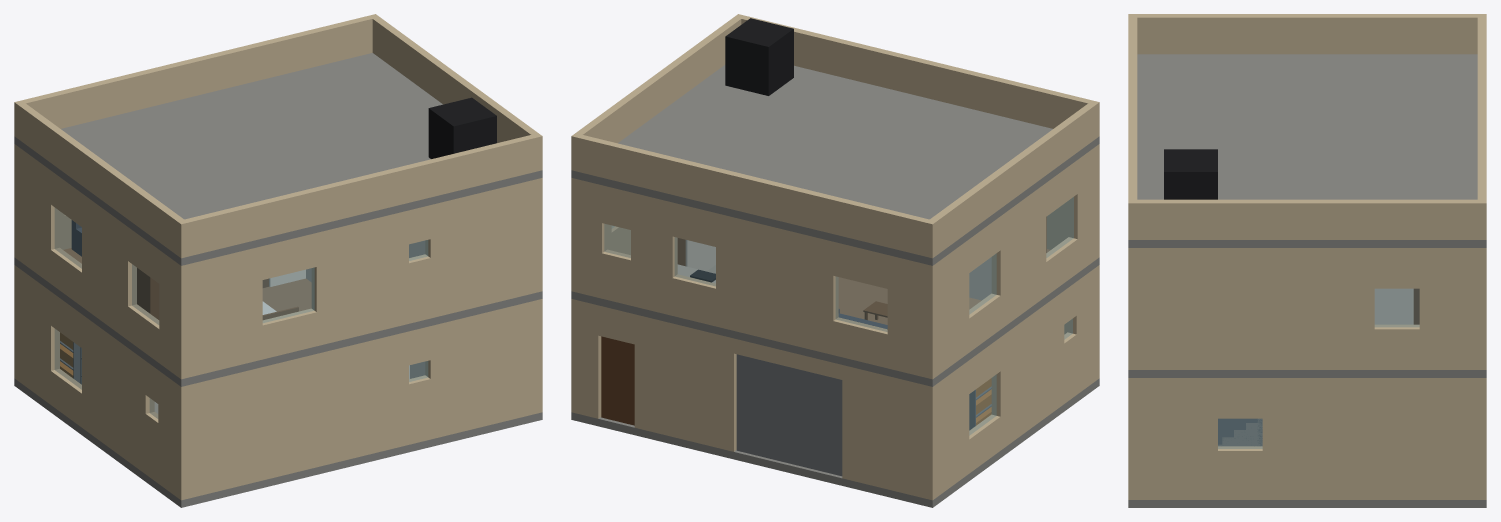
File: corner-store.glb
3 renders of one model, left to right at view 1: azimuth 30°, elevation 25°; view 2: azimuth 150°, elevation 25°; view 3: azimuth 270°, elevation 25°, orthographic. The views are drawn at different scales.
Parts seen in each view (by area): view 1: roof_slab, wall_ext_south_f0_seg0, roof_parapet_s, roof_parapet_n, wall_ext_south_f0_seg4, wall_ext_south_f1_seg8, wall_ext_south_f1_seg4, wall_ext_south_f1_seg0, wall_ext_west_f0_seg4, roof_parapet_w, wall_ext_west_f1_seg4, roof_parapet_e (+28 smaller); view 2: roof_slab, roof_parapet_n, wall_ext_north_f1_seg4, wall_ext_north_f0_seg3, roof_parapet_s, wall_ext_north_f0_seg0, door_f0_shopfront_leaf, wall_ext_west_f0_seg4, roof_parapet_w, wall_ext_north_f1_seg0, wall_ext_west_f1_seg4, roof_parapet_e (+37 smaller); view 3: roof_slab, wall_ext_east_f1_seg4, wall_ext_east_f0_seg0, roof_parapet_w, roof_parapet_e, wall_ext_east_f0_seg4, wall_ext_east_f1_seg0, slab_f0, slab_f1, roof_water_tank_tank, wall_ext_east_f0_sill1, roof_parapet_n (+12 smaller).
Boxes of the visible parts, x1,y1,x2,y2 form: roof_slab: (14, 53, 542, 265); wall_ext_south_f0_seg0: (176, 331, 408, 500); roof_parapet_s: (177, 133, 542, 258); roof_parapet_n: (14, 14, 379, 138); wall_ext_south_f0_seg4: (425, 299, 542, 439); wall_ext_south_f1_seg8: (425, 178, 542, 318); wall_ext_south_f1_seg4: (311, 210, 408, 346); wall_ext_south_f1_seg0: (176, 246, 262, 379); wall_ext_west_f0_seg4: (82, 314, 154, 473); roof_parapet_w: (18, 103, 183, 254); wall_ext_west_f1_seg4: (82, 193, 136, 339); roof_parapet_e: (372, 17, 537, 142); roof_slab: (571, 65, 1099, 265); roof_parapet_n: (571, 133, 936, 258); wall_ext_north_f1_seg4: (716, 213, 838, 354); wall_ext_north_f0_seg3: (634, 314, 736, 451); roof_parapet_s: (734, 14, 1099, 138); wall_ext_north_f0_seg0: (842, 365, 937, 500); door_f0_shopfront_leaf: (736, 354, 842, 476); wall_ext_west_f0_seg4: (991, 291, 1064, 450); roof_parapet_w: (930, 103, 1095, 254); wall_ext_north_f1_seg0: (887, 255, 937, 379); wall_ext_west_f1_seg4: (991, 183, 1046, 329); roof_parapet_e: (576, 17, 741, 143); roof_slab: (1128, 54, 1486, 247); wall_ext_east_f1_seg4: (1139, 248, 1374, 369); wall_ext_east_f0_seg0: (1262, 378, 1475, 499); roof_parapet_w: (1137, 14, 1477, 54); roof_parapet_e: (1137, 199, 1477, 239); wall_ext_east_f0_seg4: (1139, 378, 1217, 499); wall_ext_east_f1_seg0: (1419, 248, 1475, 369); slab_f0: (1128, 500, 1486, 507); slab_f1: (1128, 370, 1486, 377); roof_water_tank_tank: (1164, 149, 1217, 199); wall_ext_east_f0_sill1: (1218, 446, 1262, 499); roof_parapet_n: (1477, 14, 1486, 239).
Size of the model in its own units: 10 by 7.9 by 8.
